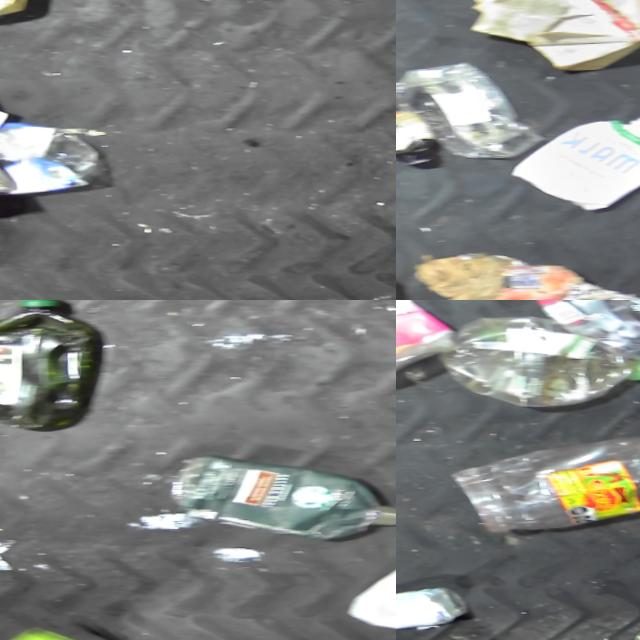can: (396, 585, 461, 635)
milk_jug: (332, 524, 396, 637)
non_white_jug: (0, 300, 100, 433)
plastic_bottle: (427, 313, 640, 415), (515, 300, 640, 376)
